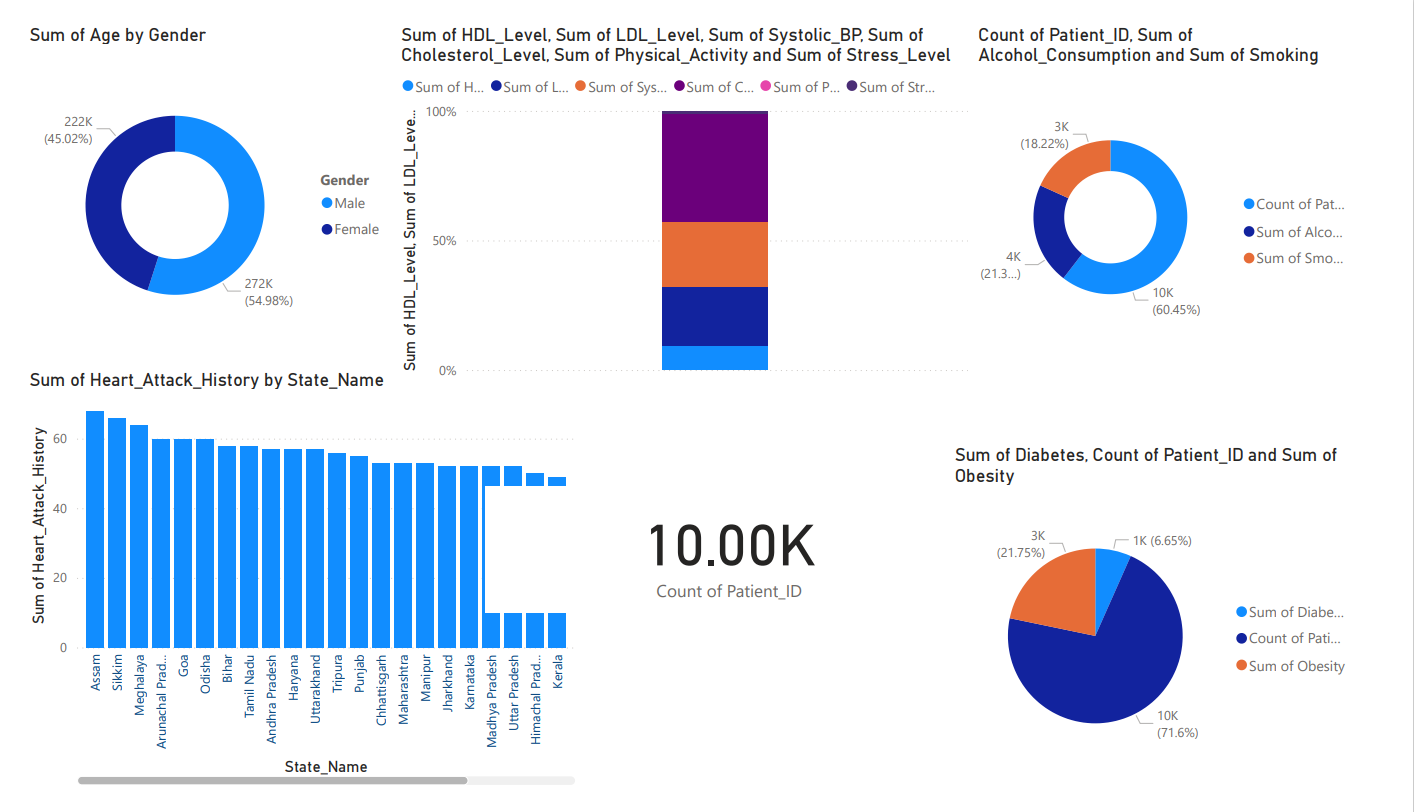

What the dashboard file says about the page in this screenshot:
{"tool":"powerbi","page":{"name":"Page 1","canvas":[1280,720],"ordinal":0},"visuals":[{"type":"donutChart","fields":{"Category":["heart_attack_prediction_india.Gender"],"Y":["Sum(heart_attack_prediction_india.Age)"]},"box":[0,0,348.6,324.1],"z":0},{"type":"clusteredColumnChart","fields":{"Category":["heart_attack_prediction_india.State_Name"],"Y":["Sum(heart_attack_prediction_india.Heart_Attack_History)"]},"box":[0,324.1,522.2,396.4],"z":1000},{"type":"pieChart","fields":{"Y":["Sum(heart_attack_prediction_india.Diabetes)","CountNonNull(heart_attack_prediction_india.Patient_ID)","Sum(heart_attack_prediction_india.Obesity)"]},"box":[869.4,394.9,386.3,325.5],"z":2000},{"type":"hundredPercentStackedColumnChart","fields":{"Y":["Sum(heart_attack_prediction_india.HDL_Level)","Sum(heart_attack_prediction_india.LDL_Level)","Sum(heart_attack_prediction_india.Systolic_BP)","Sum(heart_attack_prediction_india.Cholesterol_Level)","Sum(heart_attack_prediction_india.Physical_Activity)","Sum(heart_attack_prediction_india.Stress_Level)"]},"box":[348.6,0,542.5,338.5],"z":3000},{"type":"donutChart","fields":{"Y":["CountNonNull(heart_attack_prediction_india.Patient_ID)","Sum(heart_attack_prediction_india.Alcohol_Consumption)","Sum(heart_attack_prediction_india.Smoking)"]},"box":[891.1,0,364.6,350.1],"z":4000},{"type":"card","fields":{"Values":["CountNonNull(heart_attack_prediction_india.Patient_ID)"]},"box":[432.6,434,458.6,118.6],"z":5000}]}

Visuals, with their boxes in screenshot pixels (x1, y1, x2, y2), scaled from the page's 1280x720 canvas onto the 1414x812 screenshot:
donutChart - heart_attack_prediction_india.Gender x Sum(heart_attack_prediction_india.Age): bbox=[0, 0, 385, 366]
clusteredColumnChart - heart_attack_prediction_india.State_Name x Sum(heart_attack_prediction_india.Heart_Attack_History): bbox=[0, 366, 577, 811]
pieChart - Sum(heart_attack_prediction_india.Diabetes) x CountNonNull(heart_attack_prediction_india.Patient_ID): bbox=[960, 445, 1387, 811]
hundredPercentStackedColumnChart - Sum(heart_attack_prediction_india.HDL_Level) x Sum(heart_attack_prediction_india.LDL_Level): bbox=[385, 0, 984, 382]
donutChart - CountNonNull(heart_attack_prediction_india.Patient_ID) x Sum(heart_attack_prediction_india.Alcohol_Consumption): bbox=[984, 0, 1387, 395]
card - CountNonNull(heart_attack_prediction_india.Patient_ID): bbox=[478, 489, 984, 623]
